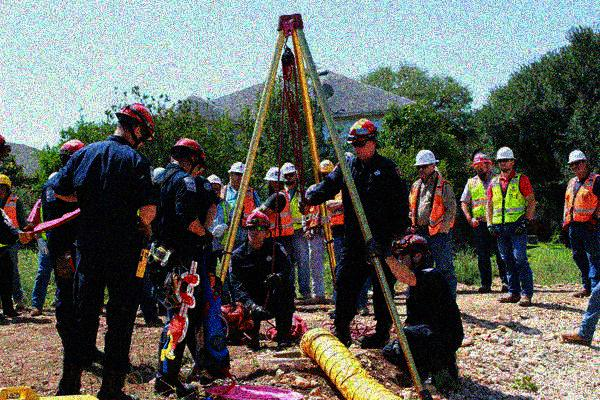helmet: (112, 99, 156, 149), (389, 232, 433, 273), (169, 136, 206, 179), (344, 116, 378, 161), (242, 209, 272, 243), (58, 139, 87, 169), (414, 148, 438, 179), (263, 166, 288, 191), (494, 147, 517, 173), (226, 160, 247, 188), (568, 149, 588, 177), (471, 150, 492, 176), (204, 173, 223, 199), (280, 161, 298, 186), (318, 158, 336, 182), (1, 175, 17, 199), (1, 133, 13, 163)
